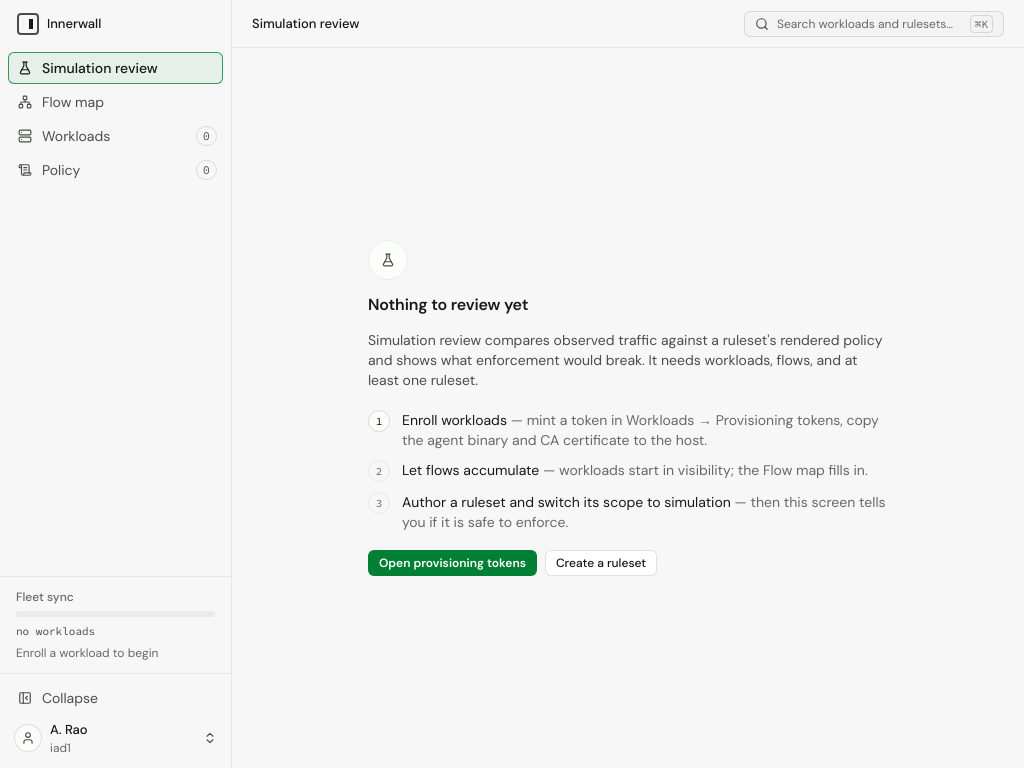
Test: shell › renders every fresh-install state
The width and height of the screenshot is (1024, 768).
Expected: the heading "Nothing to review yet" is shown, x1=368 y1=294 x2=528 y2=315
Expected: the text "Enroll workloads" is shown, x1=402 y1=411 x2=507 y2=429
Step 1. Click the link "Flow map" → (61, 102), box x1=18 y1=93 x2=104 y2=111
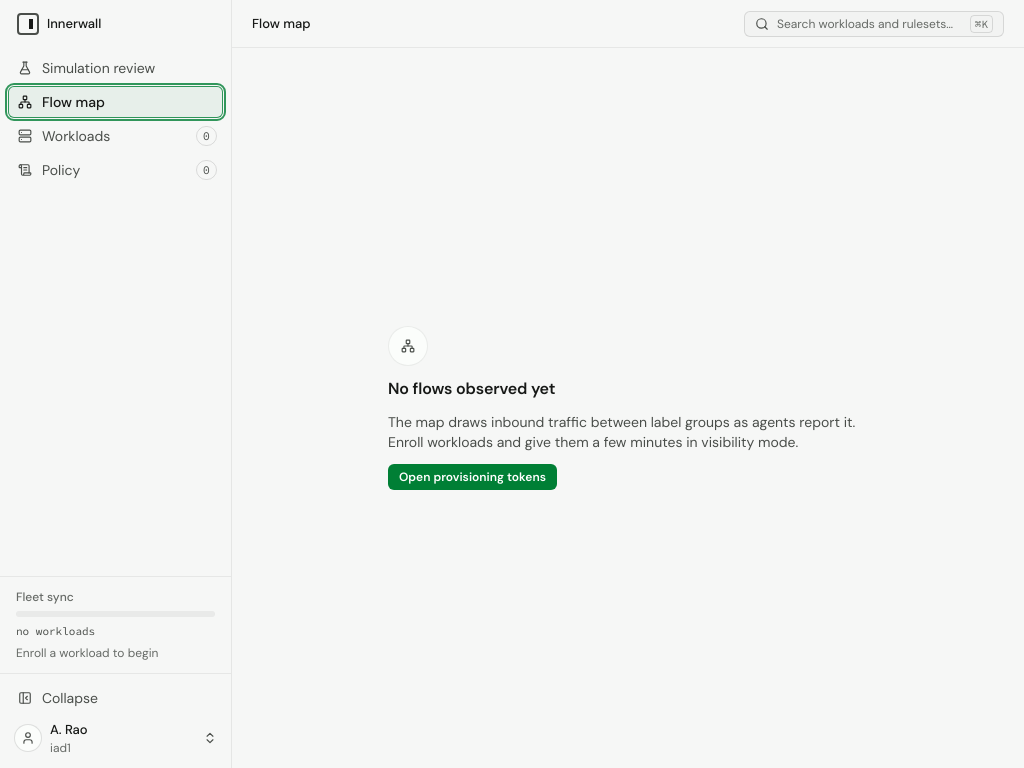
Now the heading "No flows observed yet" is shown, box x1=388 y1=378 x2=555 y2=399
Step 2. Click the link "Policy" → (49, 170), box x1=18 y1=161 x2=80 y2=179
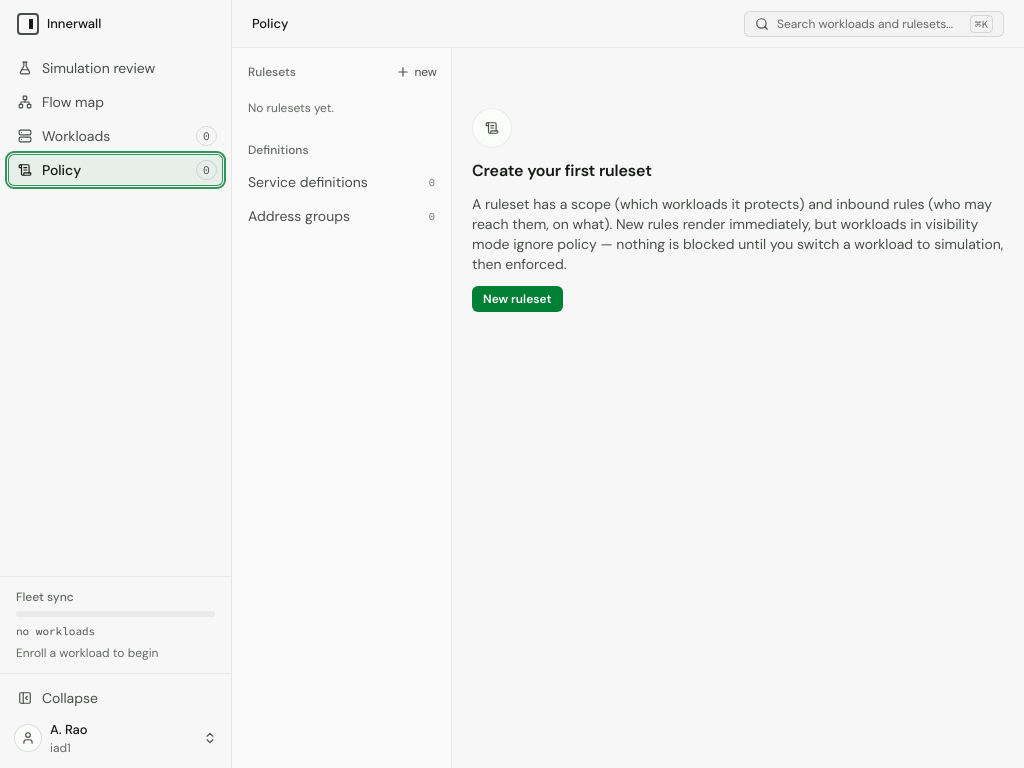
Now the heading "Create your first ruleset" is shown, box x1=472 y1=160 x2=652 y2=181
Now the text "No rulesets yet." is shown, box x1=248 y1=100 x2=334 y2=116
Step 3. Click the link "Workloads" → (64, 136), box x1=18 y1=127 x2=110 y2=145
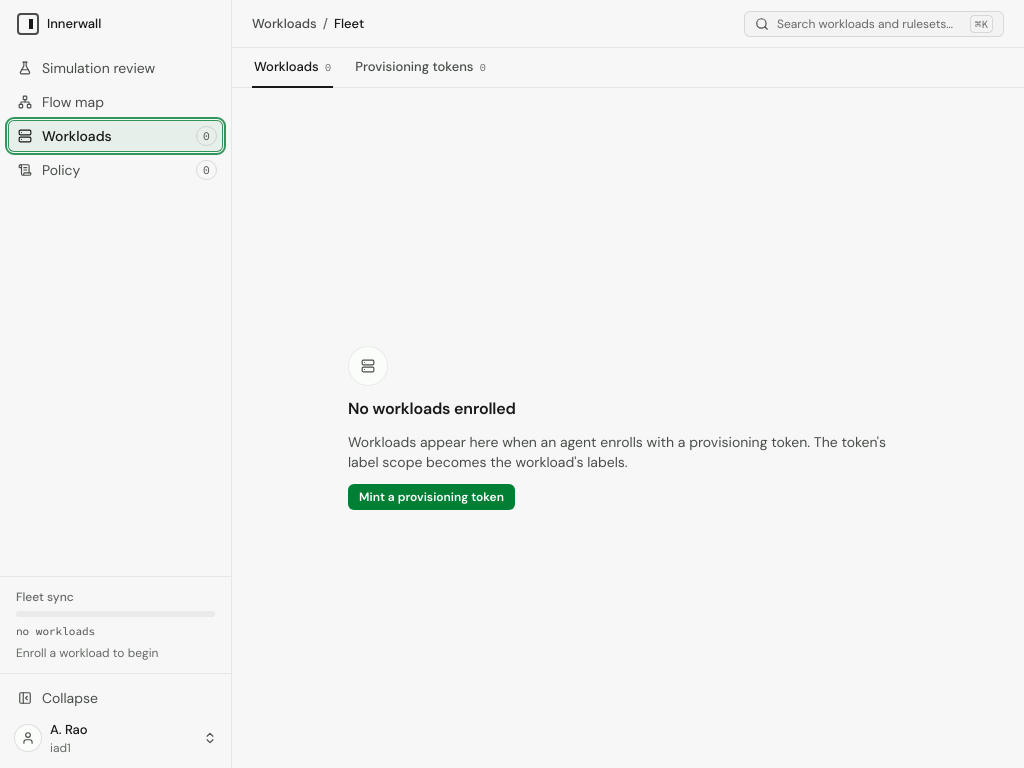
Now the heading "No workloads enrolled" is shown, box x1=348 y1=398 x2=516 y2=419
Now the tab "Provisioning tokens 0" is shown, box x1=355 y1=58 x2=486 y2=75
Step 4. Click the link "Mint a provisioning token" → (431, 497), box x1=348 y1=484 x2=515 y2=510
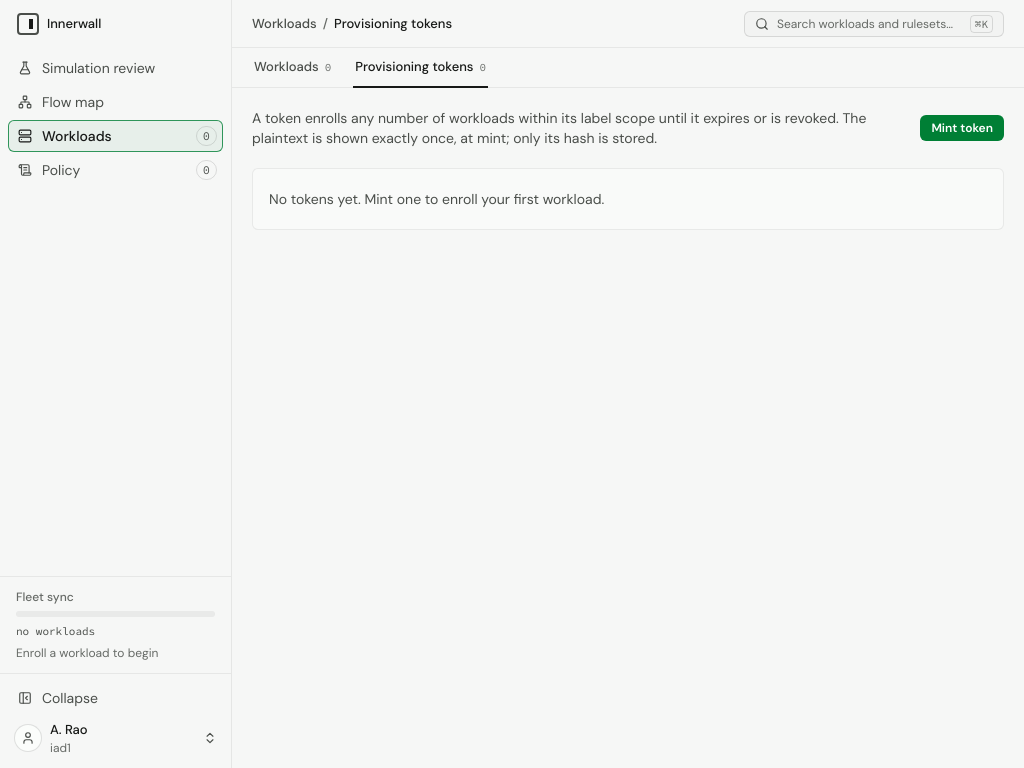
Now the text "No tokens yet. Mint one to enroll your first workload." is shown, box x1=252 y1=168 x2=1004 y2=230
Now the navigation bar named "Breadcrumb" reads "Workloads / Provisioning tokens", box x1=252 y1=14 x2=452 y2=34
